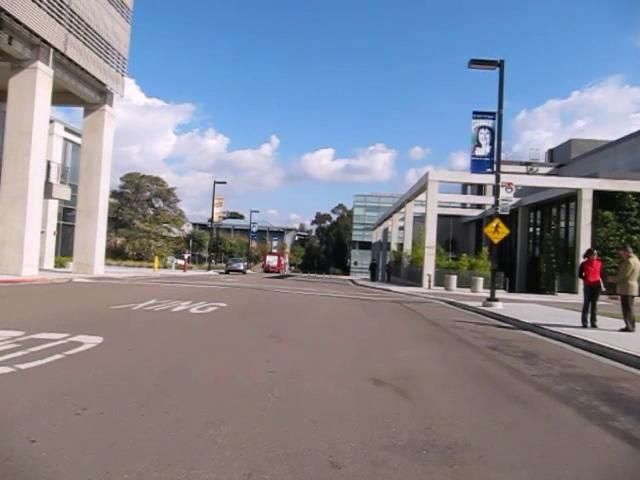pedestrianCrossing: (482, 216, 511, 245)
